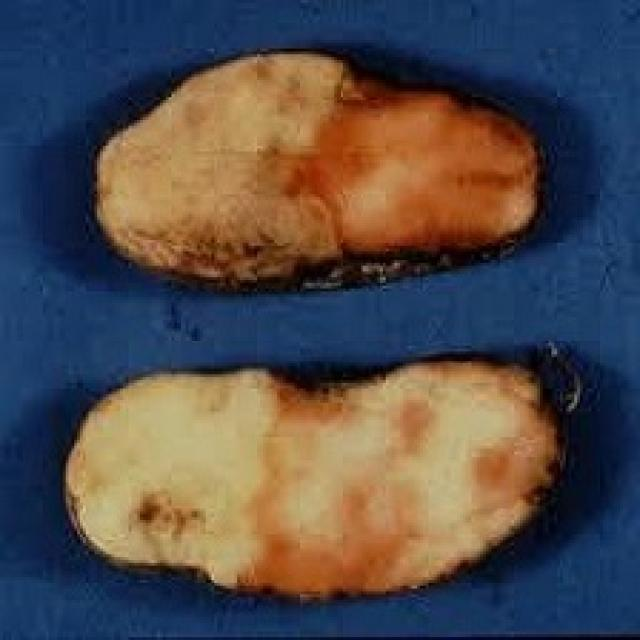pink_rot: (50, 329, 612, 640), (81, 32, 559, 300)
